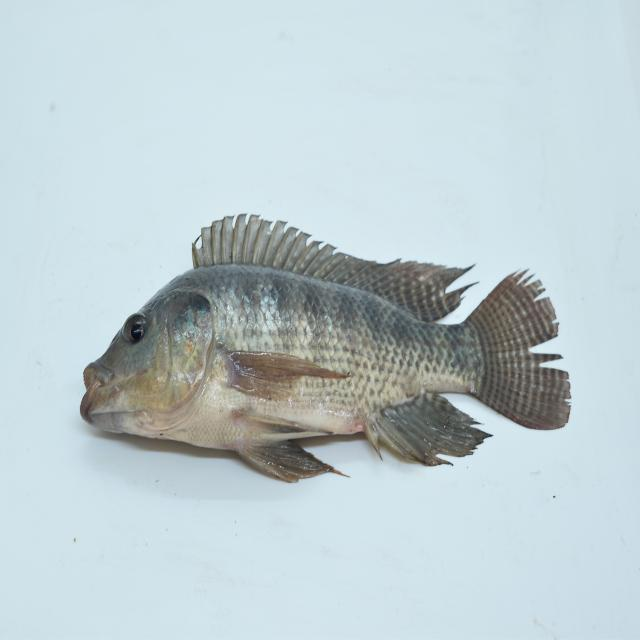Healthy Fish: (82, 210, 570, 487)
